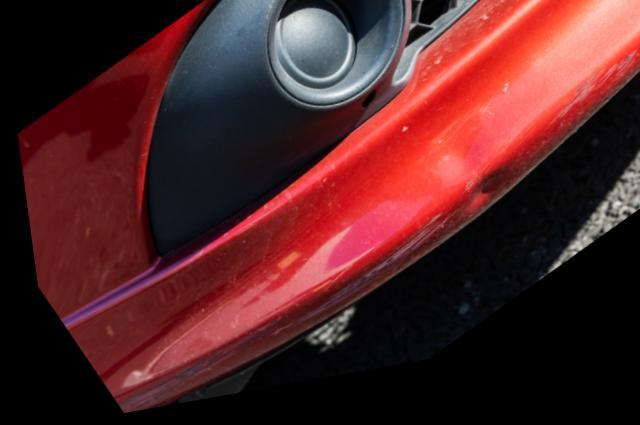dent: (426, 129, 507, 235)
scratch: (105, 222, 445, 415), (547, 62, 640, 140)
